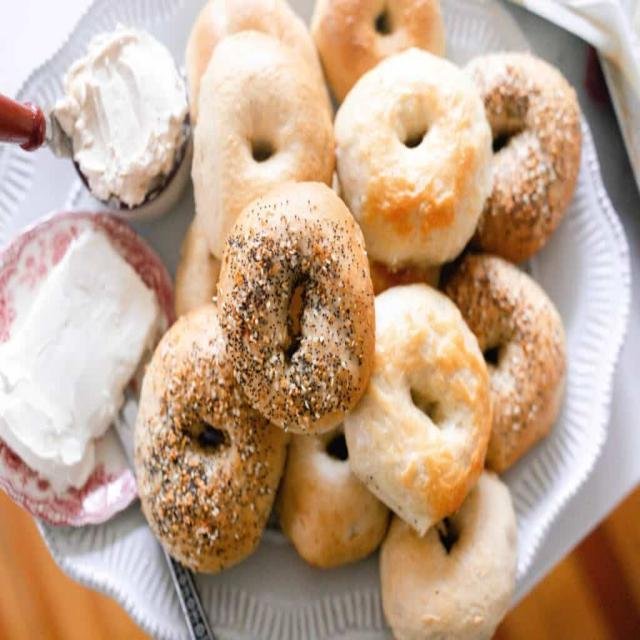Bagel: (135, 305, 288, 573), (218, 184, 374, 432), (345, 285, 492, 536), (335, 49, 491, 265), (194, 32, 335, 258), (444, 253, 566, 471), (465, 52, 581, 262), (380, 472, 516, 638), (311, 0, 445, 102)
